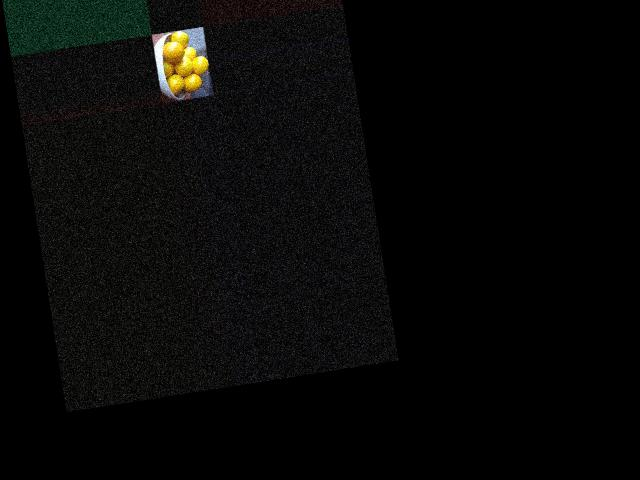lemon: (159, 61, 175, 76)
